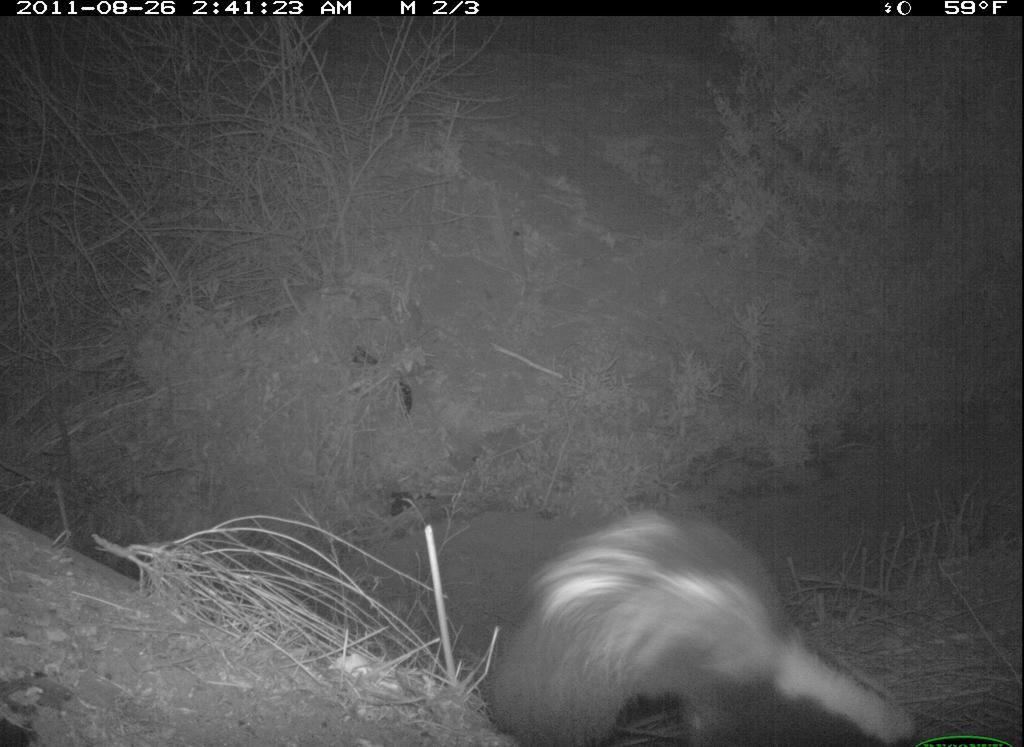skunk: (464, 484, 921, 742)
